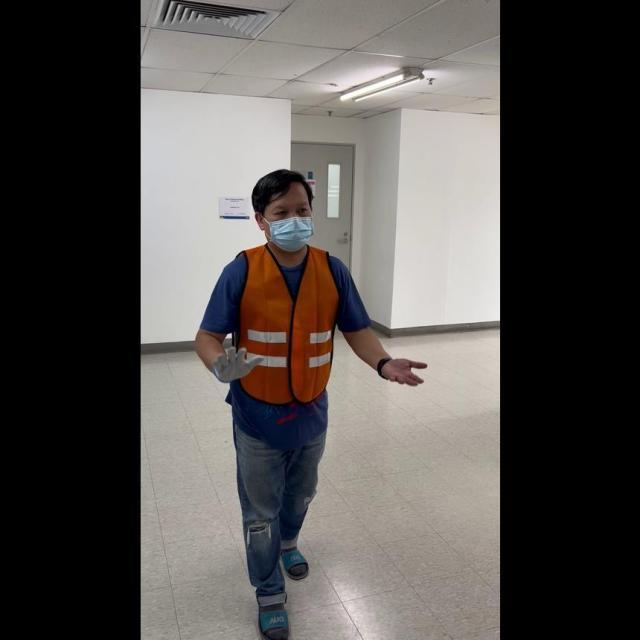bare_hand: (378, 353, 426, 387)
gloved_hand: (208, 341, 262, 384)
